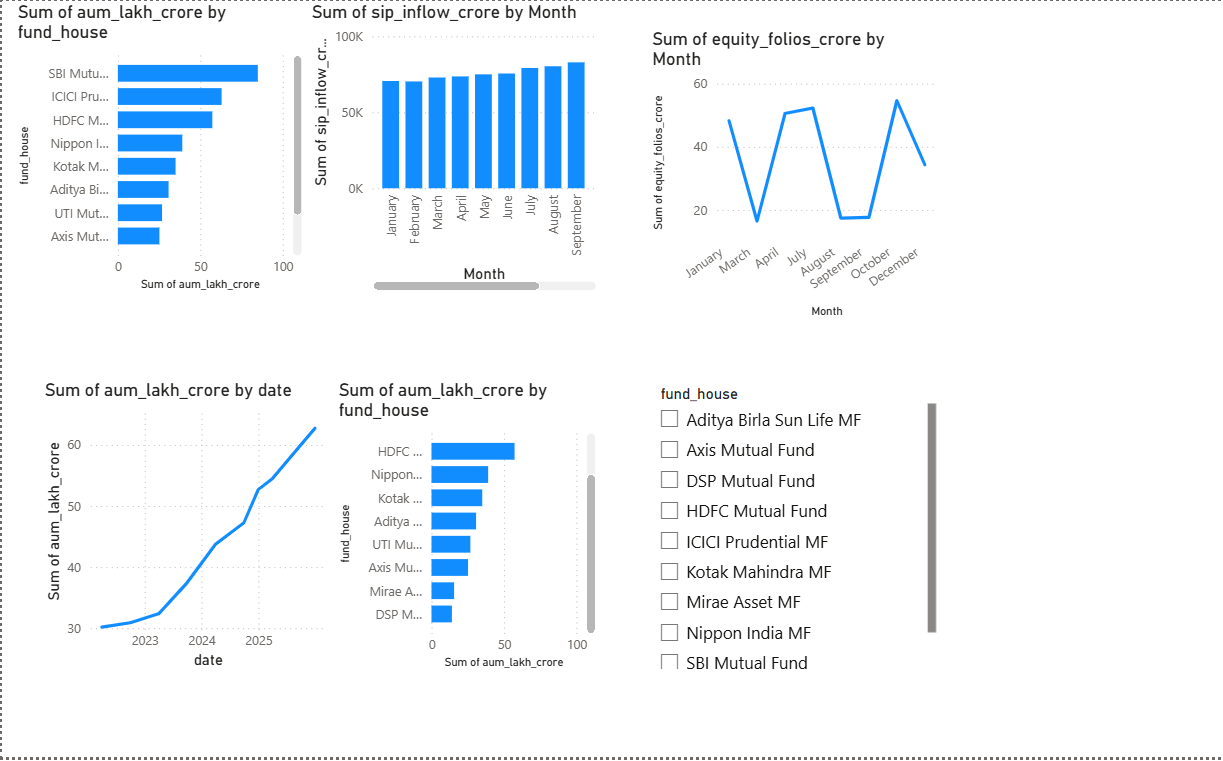

The dashboard page shown, as its layout file describes it:
{"tool":"powerbi","page":{"name":"Industry Overview","canvas":[1280,720],"ordinal":0},"visuals":[{"type":"barChart","fields":{"Category":["clean_aum_by_fund_house.fund_house"],"Y":["Sum(clean_aum_by_fund_house.aum_lakh_crore)"]},"box":[10,0,280,280],"z":0},{"type":"clusteredColumnChart","fields":{"Category":["clean_monthly_sip_inflows.month.Variation.Date Hierarchy.Month"],"Y":["Sum(clean_monthly_sip_inflows.sip_inflow_crore)"]},"box":[290,0,280,280],"z":1000},{"type":"lineChart","fields":{"Category":["clean_industry_folio_count.month.Variation.Date Hierarchy.Month"],"Y":["Sum(clean_industry_folio_count.equity_folios_crore)"]},"box":[614,25,280,280],"z":2000},{"type":"lineChart","fields":{"Category":["clean_aum_by_fund_house.date"],"Y":["Sum(clean_aum_by_fund_house.aum_lakh_crore)"]},"box":[36,360,280,280],"z":3000},{"type":"clusteredBarChart","fields":{"Category":["clean_aum_by_fund_house.fund_house"],"Y":["Sum(clean_aum_by_fund_house.aum_lakh_crore)"]},"box":[316,360,254,280],"z":4000},{"type":"slicer","fields":{"Values":["clean_aum_by_fund_house.fund_house"]},"box":[614,360,280,280],"z":5000}]}

Visuals, with their boxes on the page's 1280x720 design canvas (x1, y1, x2, y2). These are canvas units, not pixel positions in the 1223x761 screenshot, which may show the page scaled, cropped or inside an application window:
barChart - clean_aum_by_fund_house.fund_house x Sum(clean_aum_by_fund_house.aum_lakh_crore): 10,0,290,280
clusteredColumnChart - clean_monthly_sip_inflows.month.Variation.Date Hierarchy.Month x Sum(clean_monthly_sip_inflows.sip_inflow_crore): 290,0,570,280
lineChart - clean_industry_folio_count.month.Variation.Date Hierarchy.Month x Sum(clean_industry_folio_count.equity_folios_crore): 614,25,894,305
lineChart - clean_aum_by_fund_house.date x Sum(clean_aum_by_fund_house.aum_lakh_crore): 36,360,316,640
clusteredBarChart - clean_aum_by_fund_house.fund_house x Sum(clean_aum_by_fund_house.aum_lakh_crore): 316,360,570,640
slicer - clean_aum_by_fund_house.fund_house: 614,360,894,640
